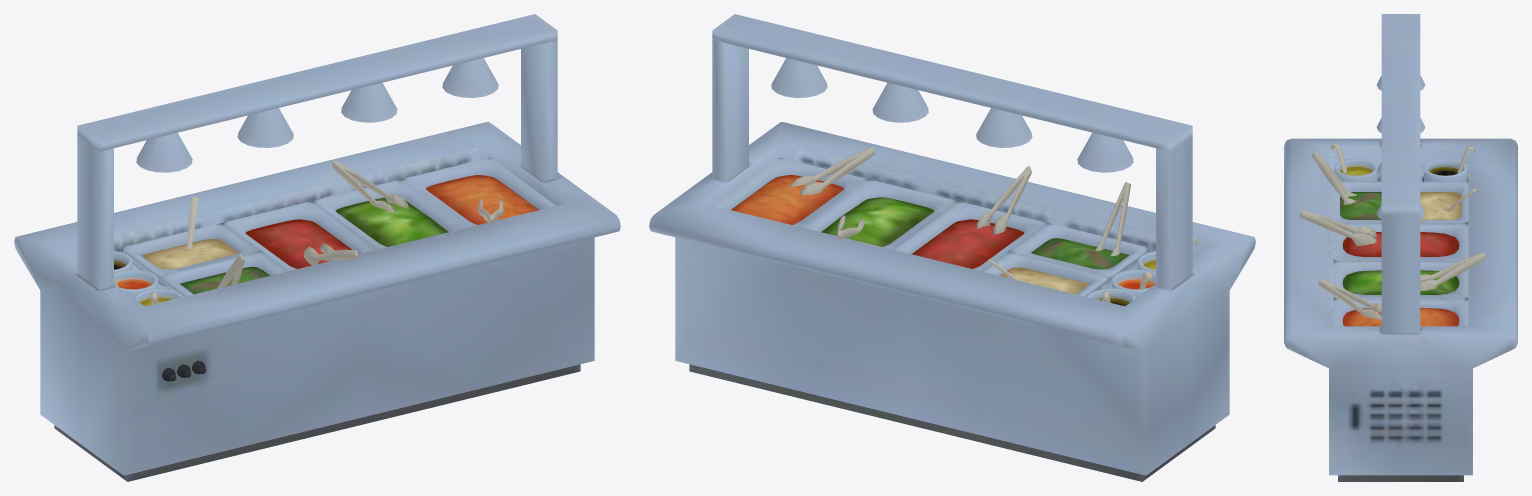
3 renders of one model, left to right at view 1: azimuth 30°, elevation 25°; view 2: azimuth 150°, elevation 25°; view 3: azimuth 270°, elevation 25°, orthographic. The views are drawn at different scales.
Size of the model in its own units: 20 by 13.06 by 10.
Materials: 1 (1 with a texture image).
